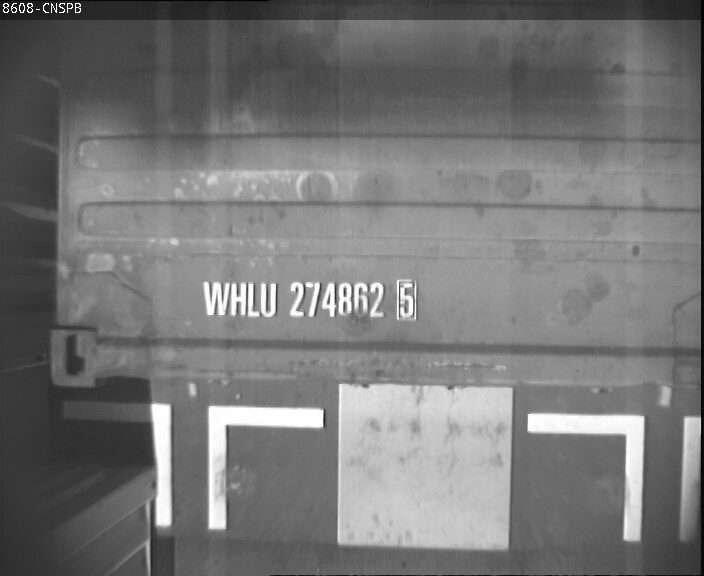groundmarker_1: (64, 398, 324, 528), (525, 413, 704, 541)
